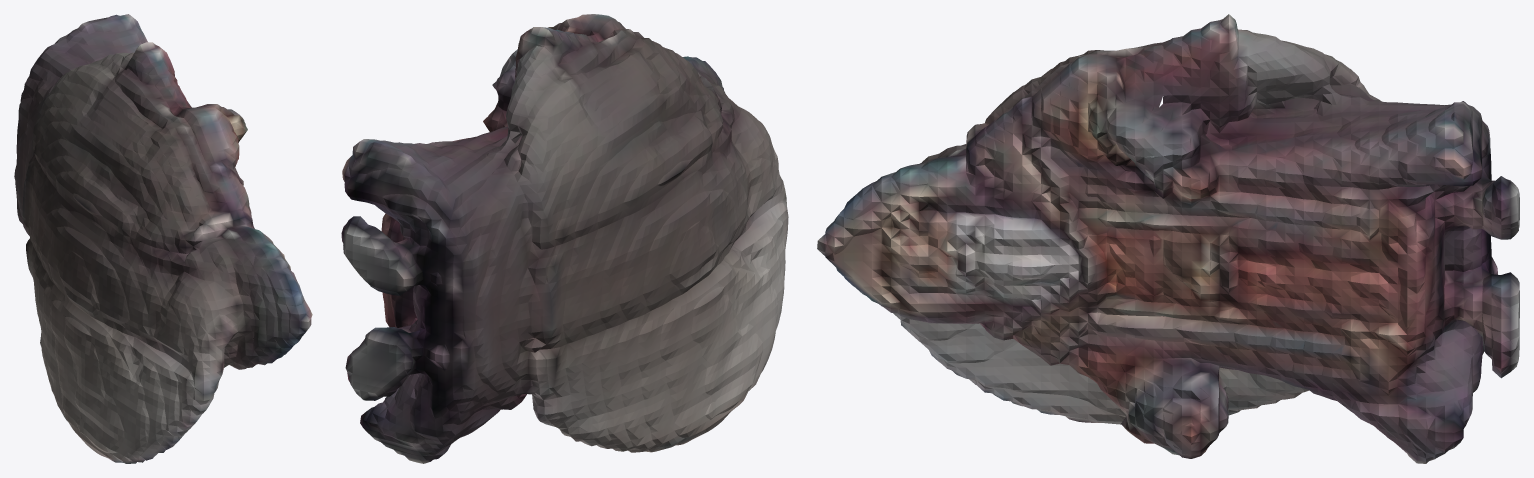
The model's file is medieval_merchant_m_0.glb.
The picture shows the model from 3 angles, left to right: view 1: azimuth 30°, elevation 25°; view 2: azimuth 150°, elevation 25°; view 3: azimuth 270°, elevation 25°; orthographic projection. The views are drawn at different scales.
Parts seen in each view (by area): view 1: world; view 2: world; view 3: world.
Part boxes in pixels (x1,y1,x2,y2): world: (14, 14, 312, 463); world: (341, 14, 788, 463); world: (817, 14, 1519, 463).
Bounding box in the file's own units: 0.4171 × 0.7498 × 1.03.
